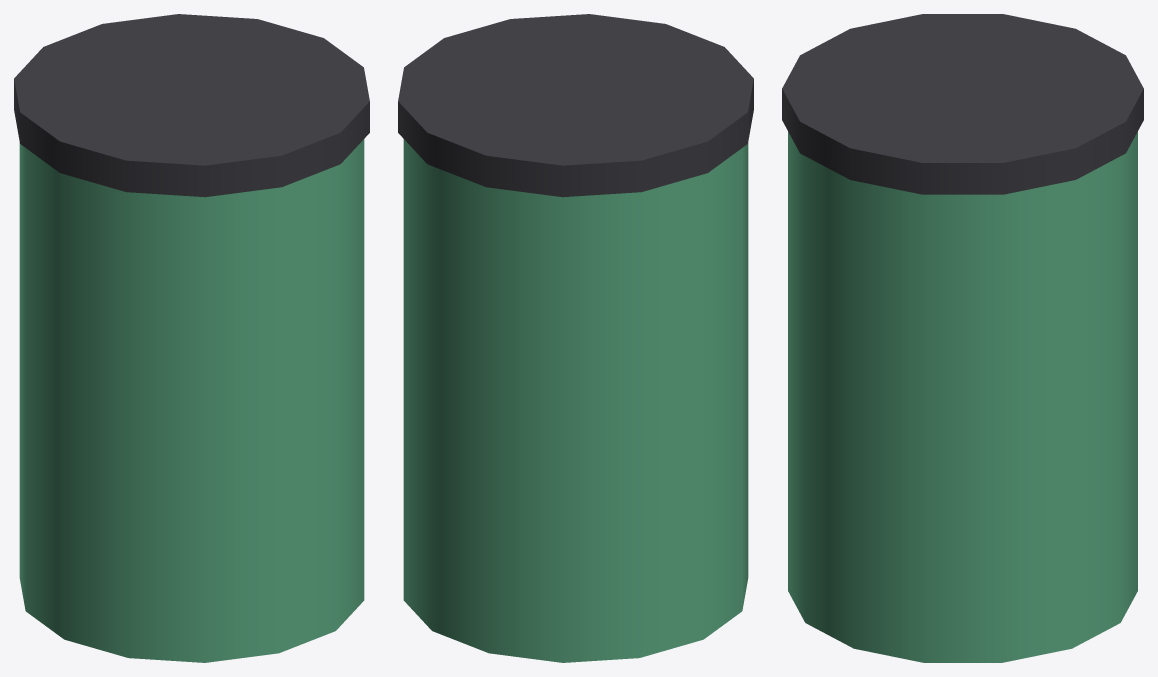
The model's file is trash_can_street.glb.
The picture shows the model from 3 angles, left to right: view 1: azimuth 30°, elevation 25°; view 2: azimuth 150°, elevation 25°; view 3: azimuth 270°, elevation 25°; orthographic projection.
Visible parts, largest first — view 1: trash_can_street; view 2: trash_can_street; view 3: trash_can_street.
Boxes of the visible parts, x1,y1,x2,y2 form: trash_can_street: (14,14,369,662); trash_can_street: (398,14,753,662); trash_can_street: (782,14,1143,662).
Bounding box in the file's own units: 0.6045 × 0.95 × 0.62.
